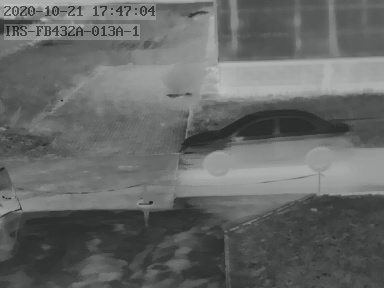vehicle: (178, 107, 350, 176)
